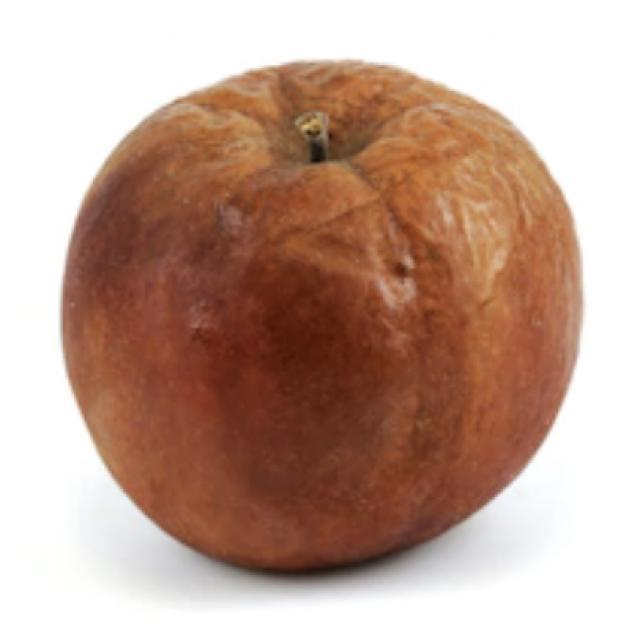Rotten: (55, 65, 572, 590)
